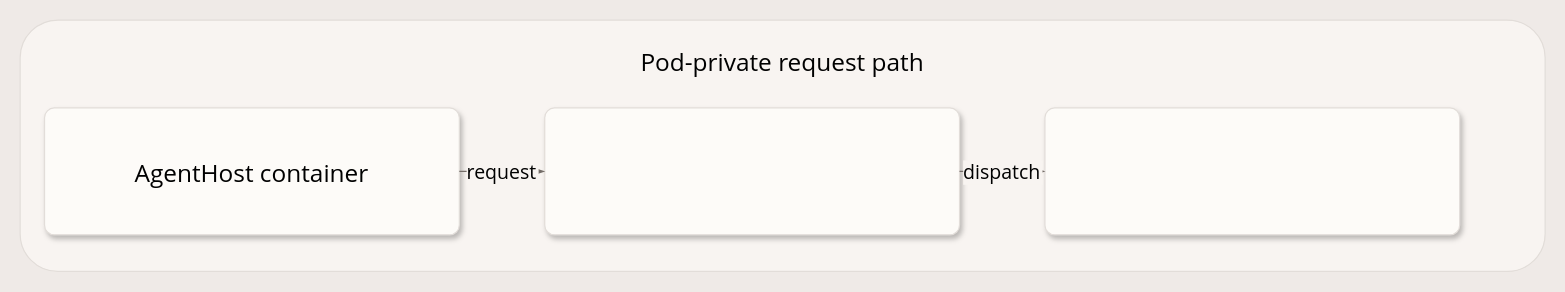
This 1565x292 diagram has some shape labels left out. Here are the shapes that lost their labels. From the top down, the centre of each, then its label:
the point at 753,172: Pod-private IPC
the point at 1253,172: Executor container
